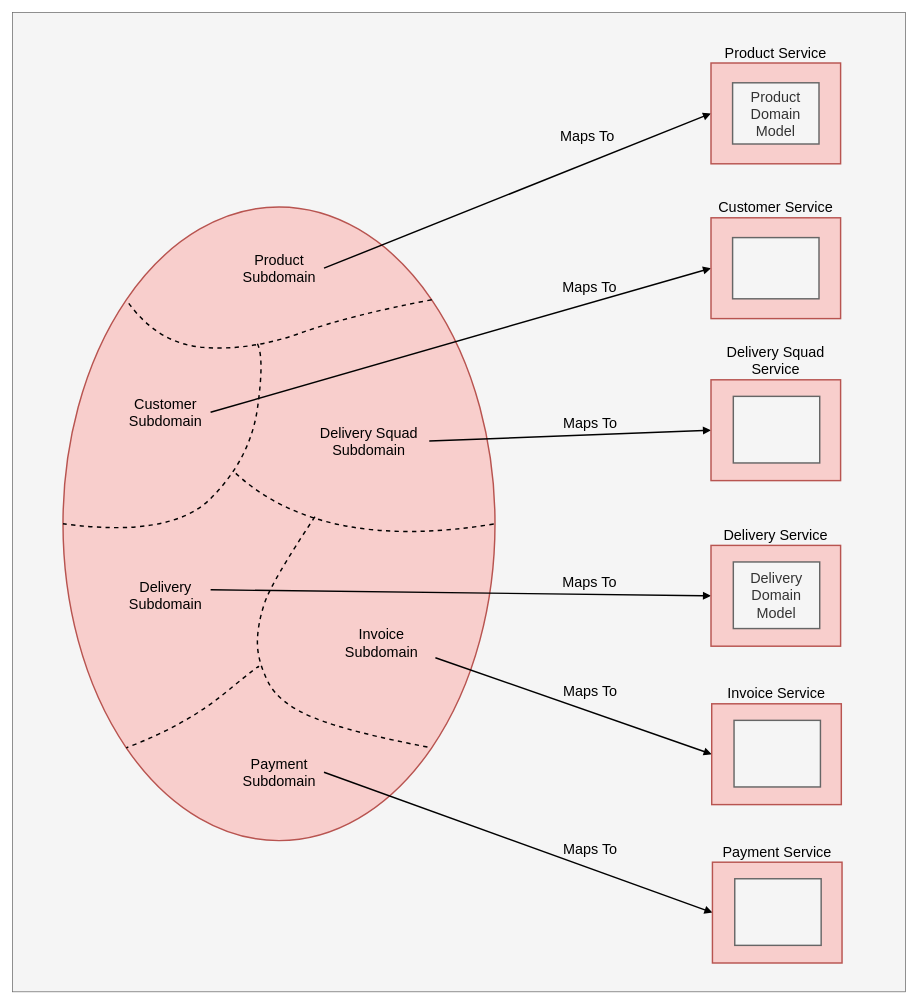
This 918x1004 diagram has some shape labels left out. The shapes that lost their labels are listed below. From the top down, each one's centre as x and y in pixels, then its label:
At (775,268): "Customer Domain Model".
At (776,429): "Delivery Squad Domain Model".
At (777,753): "Invoice Domain Model".
At (778,912): "Payment Domain Model".
